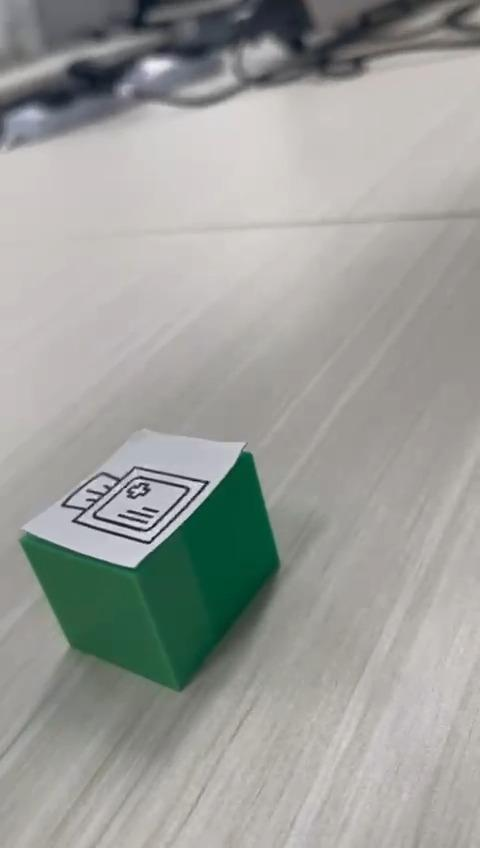Gauze: (18, 426, 280, 692)
